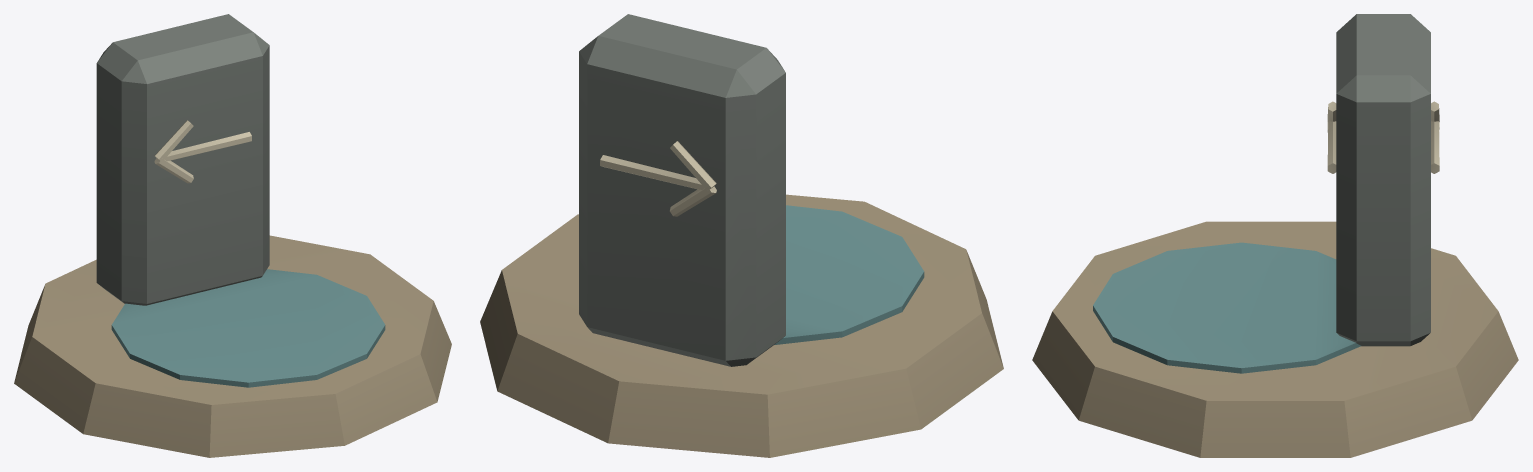
File: spring_marker.glb
3 views of the same model, side by side, from view 1: azimuth 30°, elevation 25°; view 2: azimuth 150°, elevation 25°; view 3: azimuth 270°, elevation 25° (orthographic). The views are drawn at different scales.
Parts seen in each view (by area): view 1: spring_marker; view 2: spring_marker; view 3: spring_marker.
Boxes of the visible parts, x1,y1,x2,y2 form: spring_marker: [14, 14, 451, 457]; spring_marker: [480, 14, 1003, 457]; spring_marker: [1032, 14, 1518, 457].
Size of the model in its own units: 1.37 by 1.03 by 1.44.
